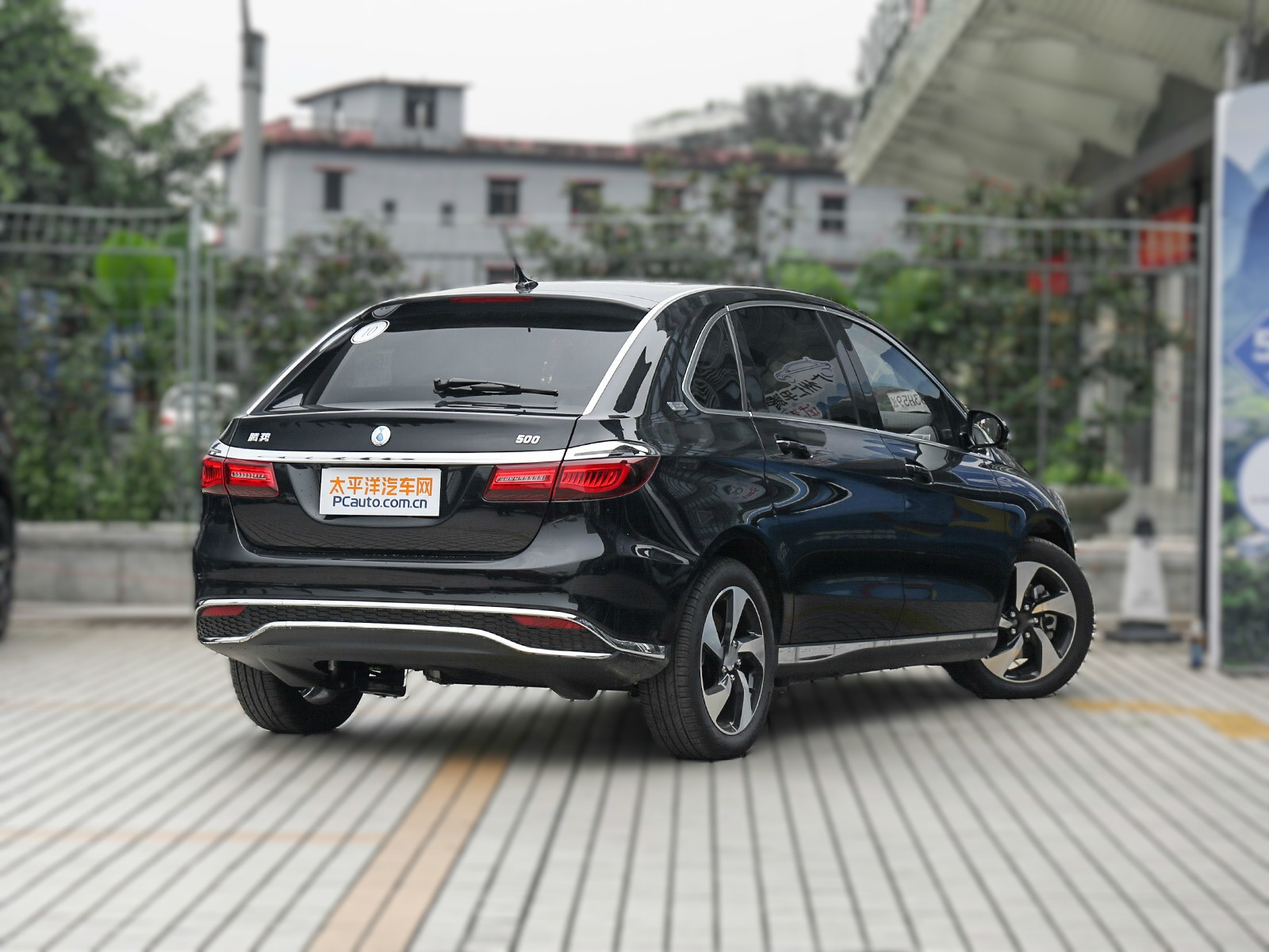DENZA: (372, 426, 390, 446)
